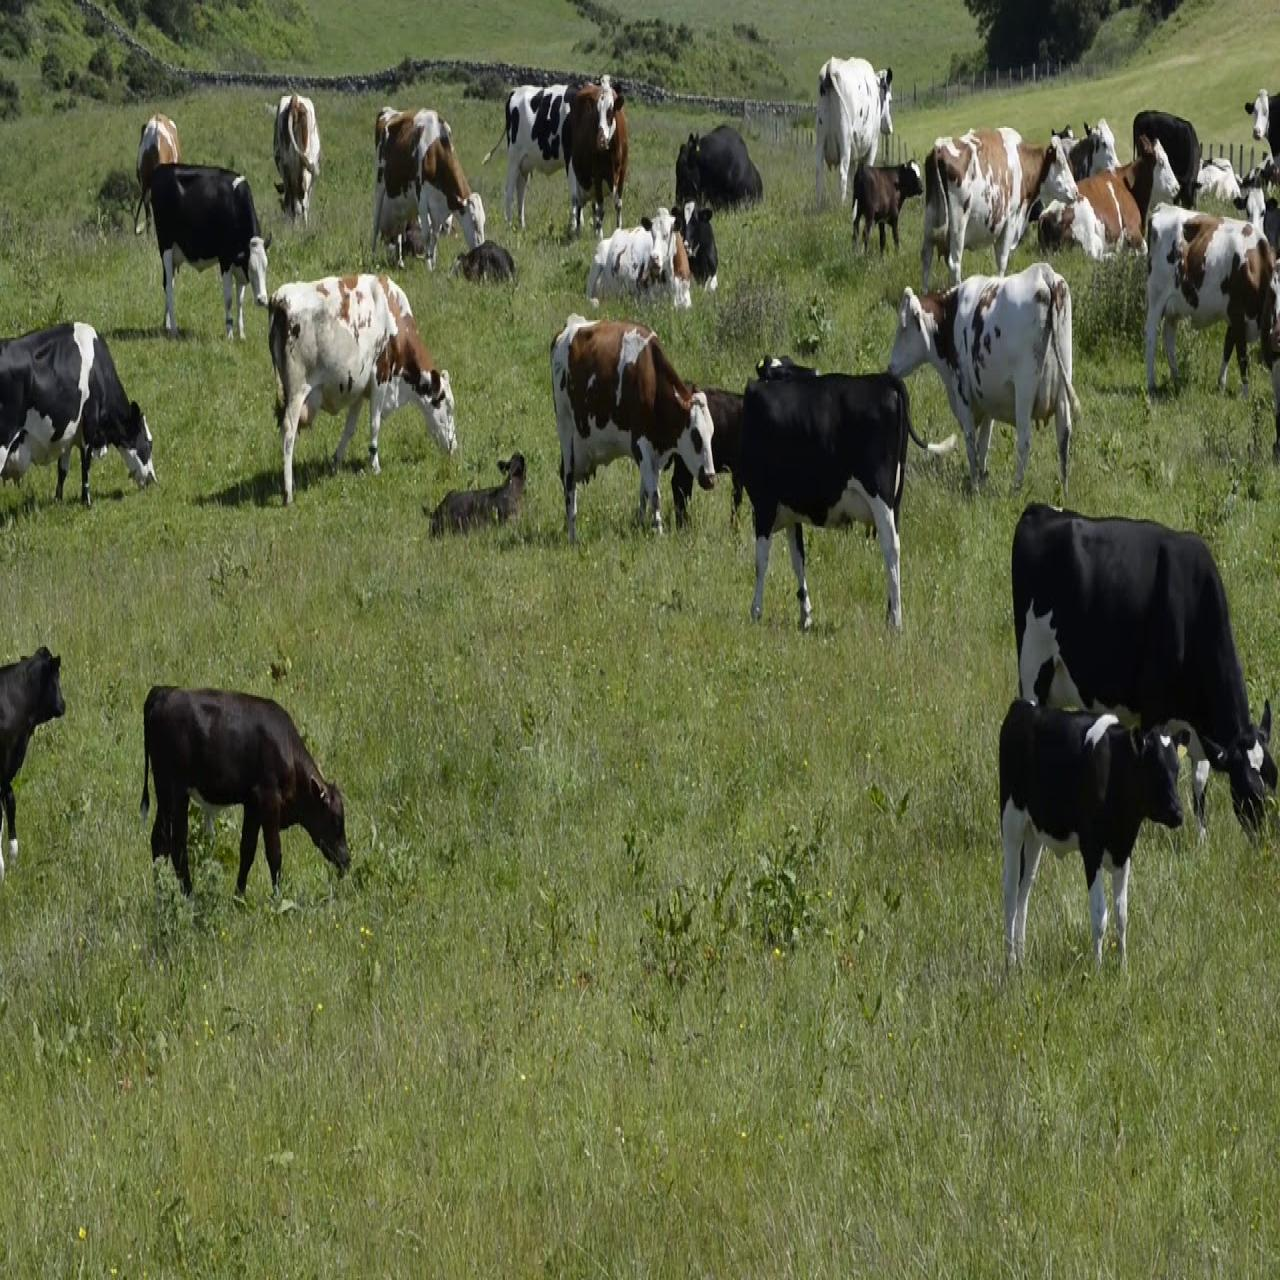cow: (1008, 498, 1274, 881), (998, 695, 1205, 1001), (723, 349, 918, 636), (141, 674, 358, 920), (888, 259, 1081, 492), (264, 266, 456, 486), (550, 311, 708, 538), (0, 314, 152, 512), (917, 109, 1076, 295), (1145, 193, 1280, 397), (137, 154, 268, 343), (1043, 124, 1184, 295), (373, 104, 491, 275), (0, 636, 68, 881), (411, 437, 538, 561), (573, 207, 702, 313), (815, 48, 899, 204), (503, 81, 580, 237), (559, 76, 626, 239), (669, 124, 767, 223), (1126, 105, 1203, 211), (124, 110, 186, 233), (271, 89, 322, 231), (668, 195, 735, 304), (847, 156, 917, 258), (1065, 114, 1123, 195), (1234, 83, 1280, 170)
